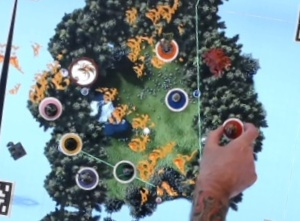blue: (162, 83, 192, 114)
green: (108, 153, 139, 185), (54, 126, 85, 157)
orange: (153, 34, 180, 63)
pink: (32, 90, 65, 122)
red: (219, 112, 248, 144)
violet: (71, 161, 99, 190)
